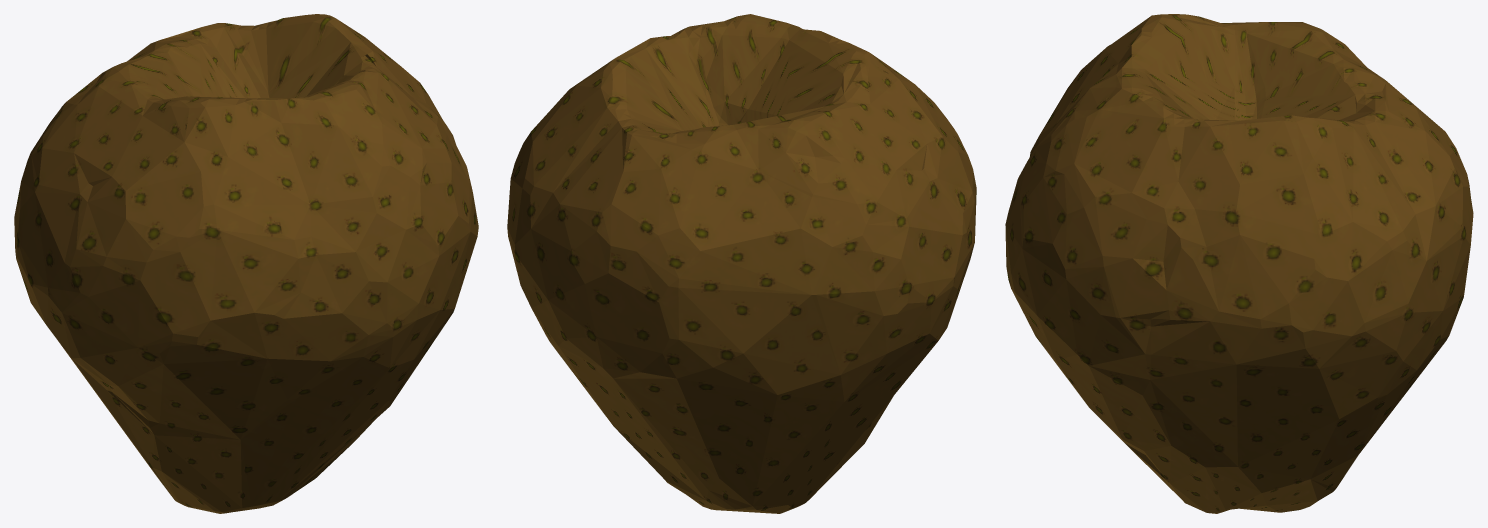
3 views of the same model, side by side, from view 1: azimuth 30°, elevation 25°; view 2: azimuth 150°, elevation 25°; view 3: azimuth 270°, elevation 25° (orthographic). The views are drawn at different scales.
Visible parts, largest first — view 1: _004_Meshed; view 2: _004_Meshed; view 3: _004_Meshed.
Part boxes in pixels (box(x1,y1,x2,y2)): _004_Meshed: box(14, 14, 478, 513); _004_Meshed: box(507, 14, 976, 513); _004_Meshed: box(1005, 14, 1473, 513).
Bounding box in the file's own units: 0.1098 × 0.1046 × 0.1135.
1 material, 1 textured.
